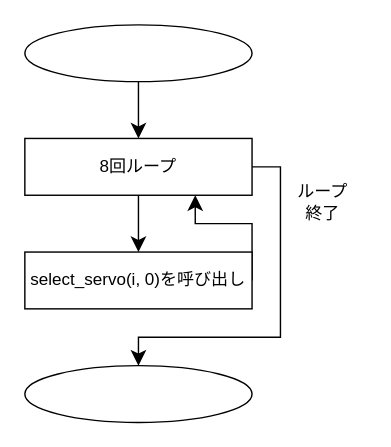
Some shapes in this 391 by 447 pixel diagram are drawn without their labels. Each missing label, with the centre of its shape:
"終了" belongs at (137,393).
"開始" belongs at (137,52).
